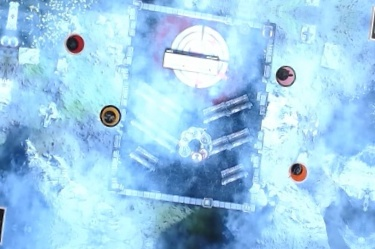orange: (286, 161, 312, 186)
pink_green: (271, 64, 297, 90)
red: (61, 31, 87, 57)
yellow_night_blue: (97, 102, 122, 128)
